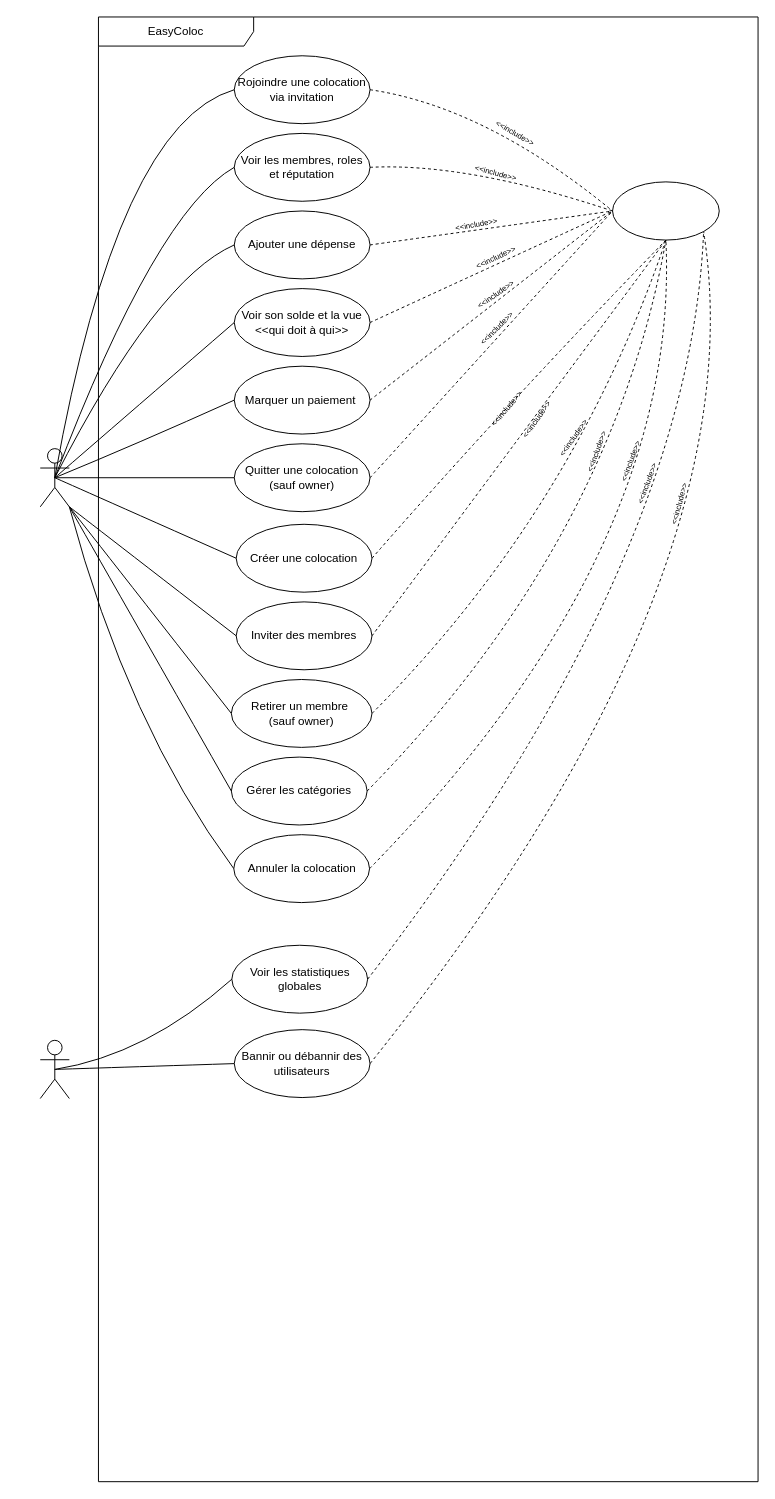
The diagram is 775 pixels wide and 1499 high, and some of its shapes have lost their labels. The box of each missing label's shape, as (x1, y1, x2, y2) in pixels:
Authentification: (612, 181, 719, 240)
Global Admin: (39, 1039, 69, 1099)
User: (39, 448, 69, 507)
